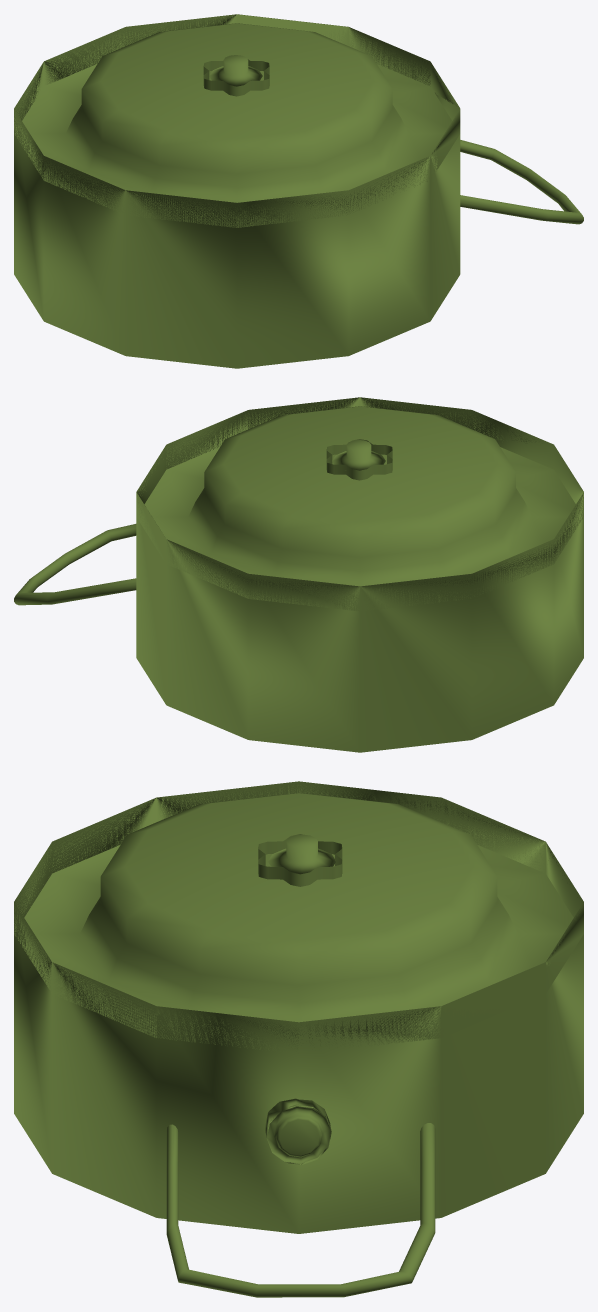
Rendered from Mind.fbx.
The picture shows the model from 3 angles, top to bottom: view 1: azimuth 30°, elevation 25°; view 2: azimuth 150°, elevation 25°; view 3: azimuth 270°, elevation 25°; orthographic projection. The views are drawn at different scales.
Visible parts, largest first — view 1: Min; view 2: Min; view 3: Min.
Boxes of the visible parts, x1=… form: Min: x1=14, y1=14, x2=583, y2=368; Min: x1=14, y1=397, x2=583, y2=752; Min: x1=14, y1=781, x2=583, y2=1297.
Size of the model in its own units: 40.85 by 16.46 by 31.22.
